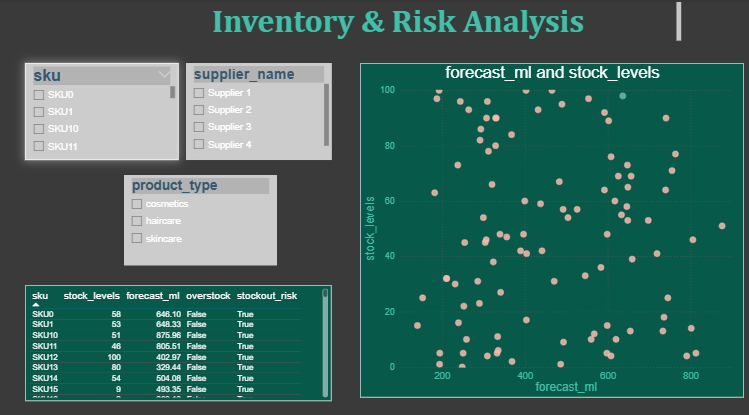

This screenshot's page, from the dashboard's own definition file:
{"tool":"powerbi","page":{"name":"Inventory & Risk","canvas":[1280,720],"ordinal":2},"visuals":[{"type":"textbox","box":[215,0,940.7,80.6],"z":1},{"type":"scatterChart","fields":{"X":["final_forecast_data.forecast_ml"],"Y":["final_forecast_data.stock_levels"]},"box":[611.7,108.3,645,561.7],"z":2},{"type":"tableEx","fields":{"Values":["final_forecast_data.sku","final_forecast_data.stock_levels","final_forecast_data.forecast_ml","final_forecast_data.overstock","final_forecast_data.stockout_risk"]},"box":[48.3,480,515,195],"z":3},{"type":"slicer","fields":{"Values":["final_forecast_data.sku"]},"box":[48.3,108.3,258.3,163.3],"z":4},{"type":"slicer","fields":{"Values":["final_forecast_data.supplier_name"]},"box":[318.3,108.3,245,163.3],"z":5},{"type":"slicer","fields":{"Values":["final_forecast_data.product_type"]},"box":[215,295,256.7,151.7],"z":6}]}

Visuals, with their boxes in screenshot pixels (x1, y1, x2, y2), scaled from the page's 1280x720 canvas onto the 749x415 screenshot:
textbox: Rect(126, 0, 676, 46)
scatterChart - final_forecast_data.forecast_ml x final_forecast_data.stock_levels: Rect(358, 62, 735, 386)
tableEx - final_forecast_data.sku x final_forecast_data.stock_levels: Rect(28, 277, 330, 389)
slicer - final_forecast_data.sku: Rect(28, 62, 179, 157)
slicer - final_forecast_data.supplier_name: Rect(186, 62, 330, 157)
slicer - final_forecast_data.product_type: Rect(126, 170, 276, 257)
